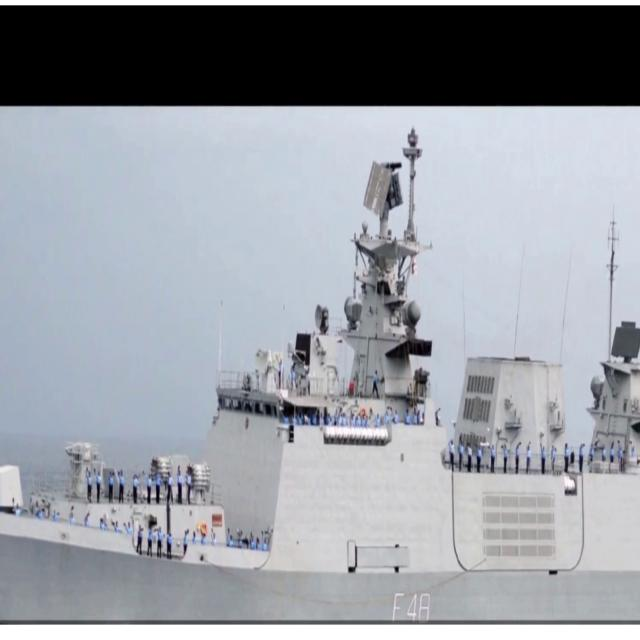OCR: (387, 586, 440, 622)
